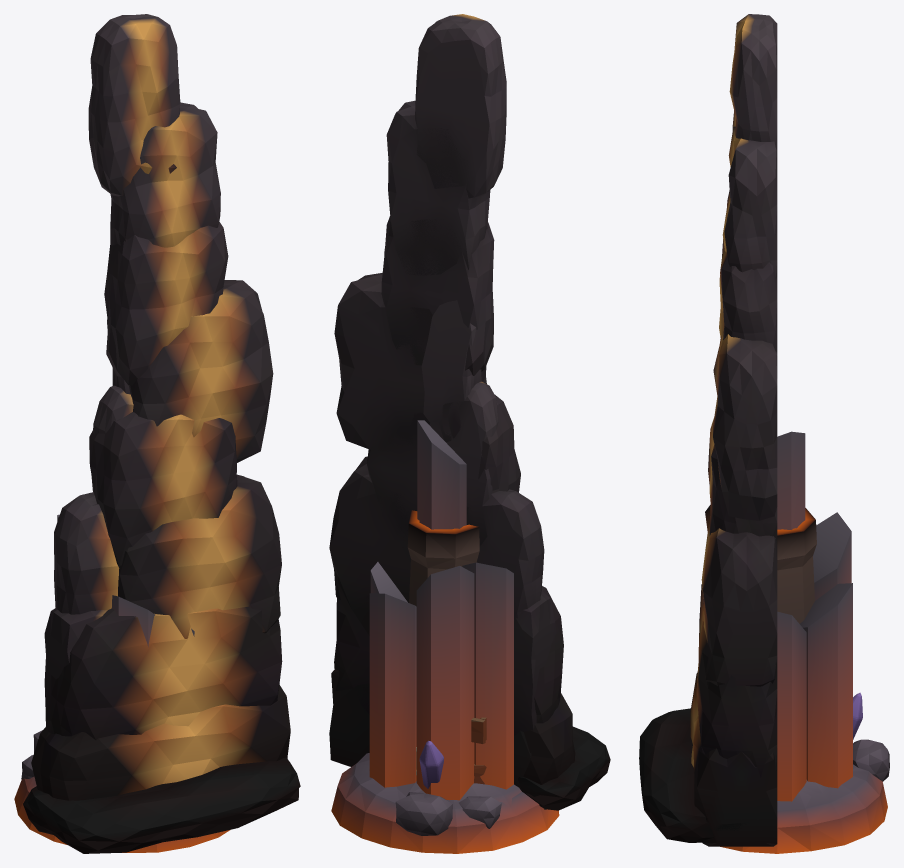
Rendered from volcano-s6-BWrenuiR.glb.
3 renders of one model, left to right at view 1: azimuth 30°, elevation 25°; view 2: azimuth 150°, elevation 25°; view 3: azimuth 270°, elevation 25°, orthographic. The views are drawn at different scales.
Parts seen in each view (by area): view 1: sc_flow_1, sc_flow_0, sc_z2_3, sc_stack_0; view 2: sc_flow_1, sc_stack_0, sc_flow_0, sc_z2_3, sc_chimney_0, sc_z1_2; view 3: sc_flow_1, sc_stack_0, sc_z2_3, sc_chimney_0, sc_z1_2.
Part boxes in pixels (left/top/right/bottom): sc_flow_1: left=23, top=14, right=300, bottom=853; sc_flow_0: left=44, top=319, right=133, bottom=725; sc_z2_3: left=14, top=776, right=229, bottom=852; sc_stack_0: left=57, top=514, right=194, bottom=647; sc_flow_1: left=329, top=14, right=610, bottom=810; sc_stack_0: left=369, top=420, right=513, bottom=800; sc_flow_0: left=421, top=300, right=556, bottom=791; sc_z2_3: left=331, top=717, right=559, bottom=853; sc_chimney_0: left=407, top=510, right=501, bottom=828; sc_z1_2: left=395, top=741, right=521, bottom=835; sc_flow_1: left=639, top=14, right=777, bottom=846; sc_stack_0: left=702, top=431, right=852, bottom=801; sc_z2_3: left=720, top=764, right=887, bottom=853; sc_chimney_0: left=777, top=508, right=816, bottom=791; sc_z1_2: left=777, top=692, right=889, bottom=801.
Bounding box in the file's own units: 12 × 38.88 × 11.24.
